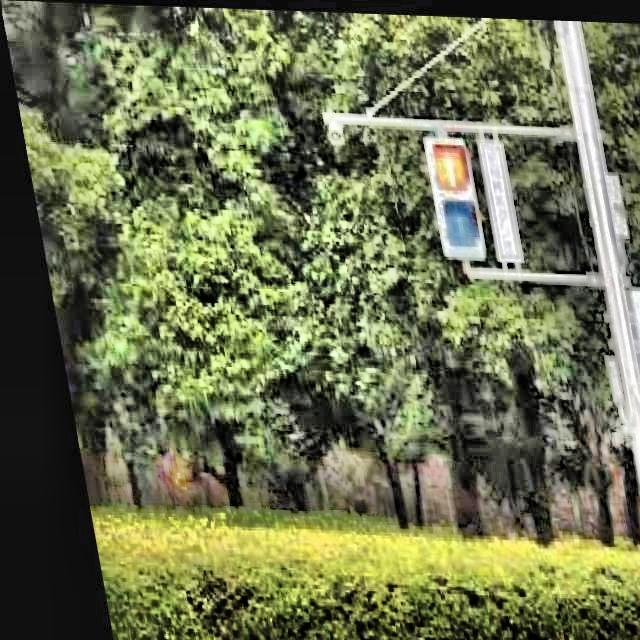semaforo pedestre: (348, 100, 555, 346)
